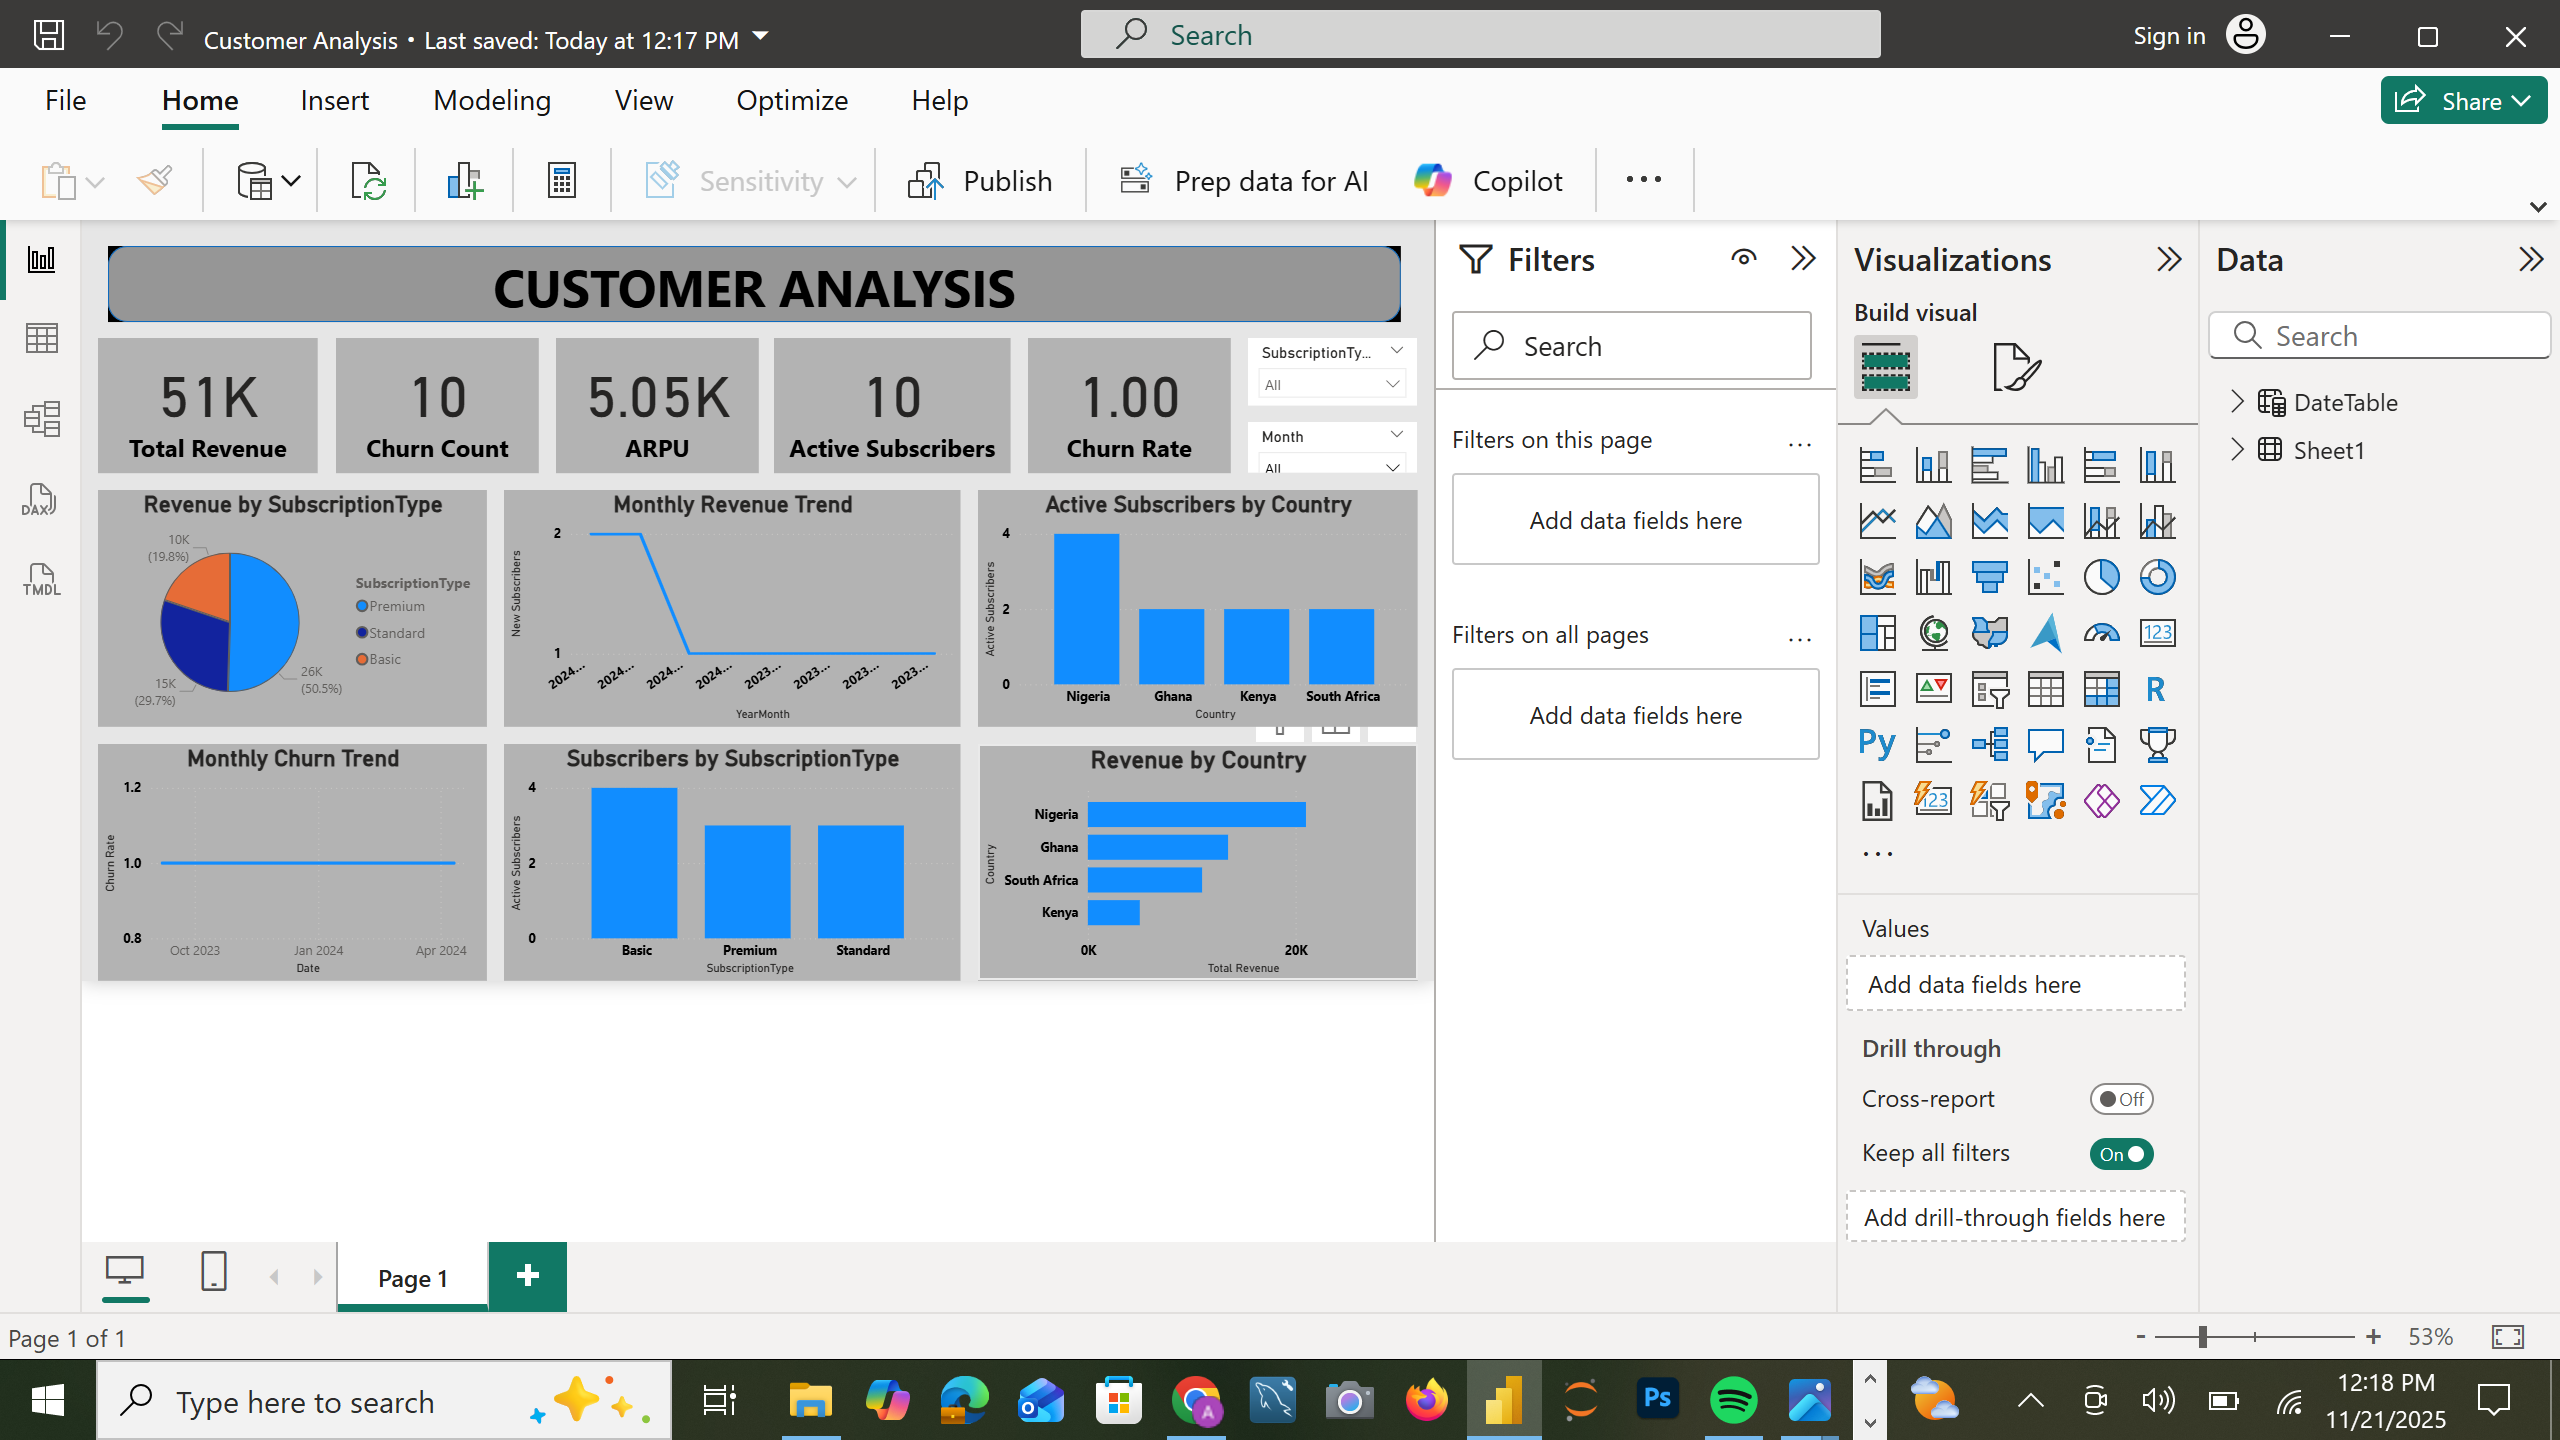

The dashboard page shown, as its layout file describes it:
{"tool":"powerbi","page":{"name":"Page 1","canvas":[1280,720],"ordinal":0},"visuals":[{"type":"card","fields":{"Values":["Sheet1.Total Revenue"]},"box":[16,112,208,128],"z":0},{"type":"card","fields":{"Values":["Sheet1.ARPU"]},"box":[448,112,192,128],"z":1000},{"type":"card","fields":{"Values":["Sheet1.Churn Count"]},"box":[240,112,192,128],"z":2000},{"type":"card","fields":{"Values":["Sheet1.Active Subscribers"]},"box":[656,112,224,128],"z":3000},{"type":"card","fields":{"Values":["Sheet1.Churn Rate"]},"box":[896,112,192,128],"z":4000},{"type":"clusteredBarChart","title":"Revenue by Country","fields":{"Category":["Sheet1.Country"],"Y":["Sheet1.Total Revenue"]},"box":[848,496,416,224],"z":5000},{"type":"pieChart","title":"Revenue by SubscriptionType","fields":{"Category":["Sheet1.SubscriptionType"],"Y":["Sheet1.Total Revenue"]},"box":[16,256,368,224],"z":6000},{"type":"lineChart","title":"Monthly Revenue Trend","fields":{"Category":["DateTable.YearMonth"],"Y":["DateTable.New Subscribers"]},"box":[400,256,432,224],"z":7000},{"type":"columnChart","title":"Active Subscribers by Country","fields":{"Category":["Sheet1.Country"],"Y":["Sheet1.Active Subscribers"]},"box":[848,256,416,224],"z":8000},{"type":"lineChart","title":"Monthly Churn Trend","fields":{"Category":["DateTable.Date"],"Y":["Sheet1.Churn Rate"]},"box":[16,496,368,224],"z":9000},{"type":"columnChart","title":" Subscribers by SubscriptionType","fields":{"Category":["Sheet1.SubscriptionType"],"Y":["Sheet1.Active Subscribers"]},"box":[400,496,432,224],"z":10000},{"type":"shape","box":[24,24,1224,72],"z":11000},{"type":"slicer","fields":{"Values":["DateTable.YearMonth"]},"box":[1104,192,160,48],"z":12000},{"type":"slicer","fields":{"Values":["Sheet1.SubscriptionType"]},"box":[1104,112,160,64],"z":12001}]}

Visuals, with their boxes on the page's 1280x720 design canvas (x1, y1, x2, y2). These are canvas units, not pixel positions in the 2560x1440 screenshot, which may show the page scaled, cropped or inside an application window:
card - Sheet1.Total Revenue: [16, 112, 224, 240]
card - Sheet1.ARPU: [448, 112, 640, 240]
card - Sheet1.Churn Count: [240, 112, 432, 240]
card - Sheet1.Active Subscribers: [656, 112, 880, 240]
card - Sheet1.Churn Rate: [896, 112, 1088, 240]
"Revenue by Country" clusteredBarChart: [848, 496, 1264, 720]
"Revenue by SubscriptionType" pieChart: [16, 256, 384, 480]
"Monthly Revenue Trend" lineChart: [400, 256, 832, 480]
"Active Subscribers by Country" columnChart: [848, 256, 1264, 480]
"Monthly Churn Trend" lineChart: [16, 496, 384, 720]
" Subscribers by SubscriptionType" columnChart: [400, 496, 832, 720]
shape: [24, 24, 1248, 96]
slicer - DateTable.YearMonth: [1104, 192, 1264, 240]
slicer - Sheet1.SubscriptionType: [1104, 112, 1264, 176]
